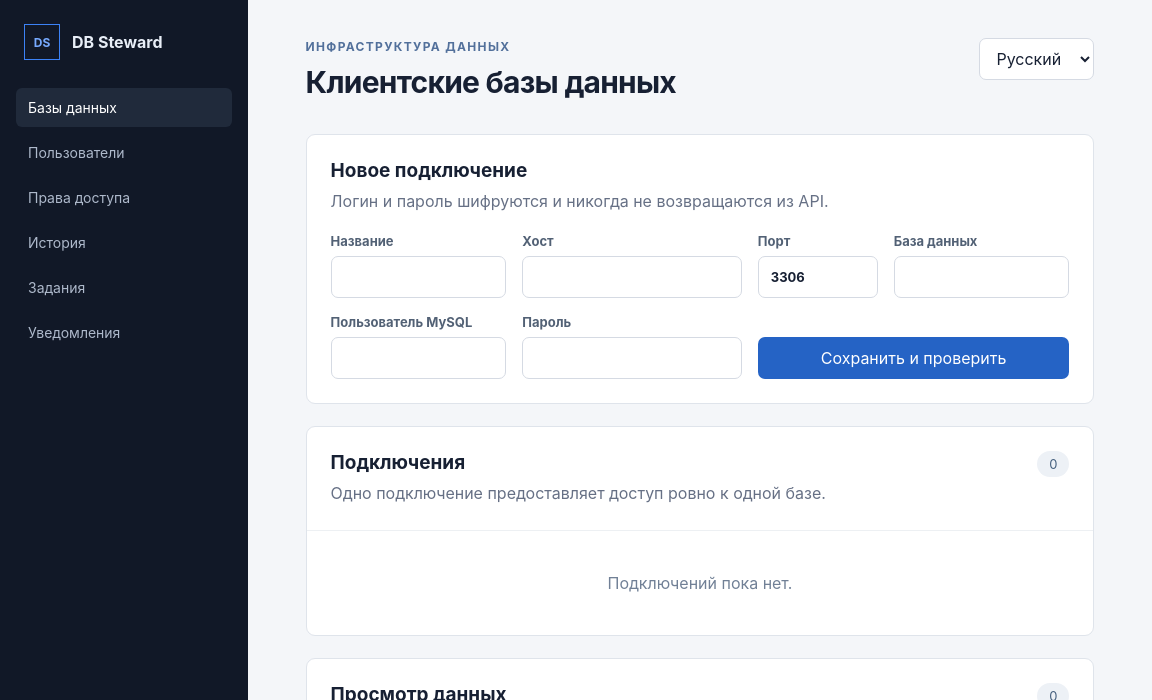
Test case: App › renders connection and user management for an administrator
Click the button "Пользователи": (124, 152) [16,133,232,172]
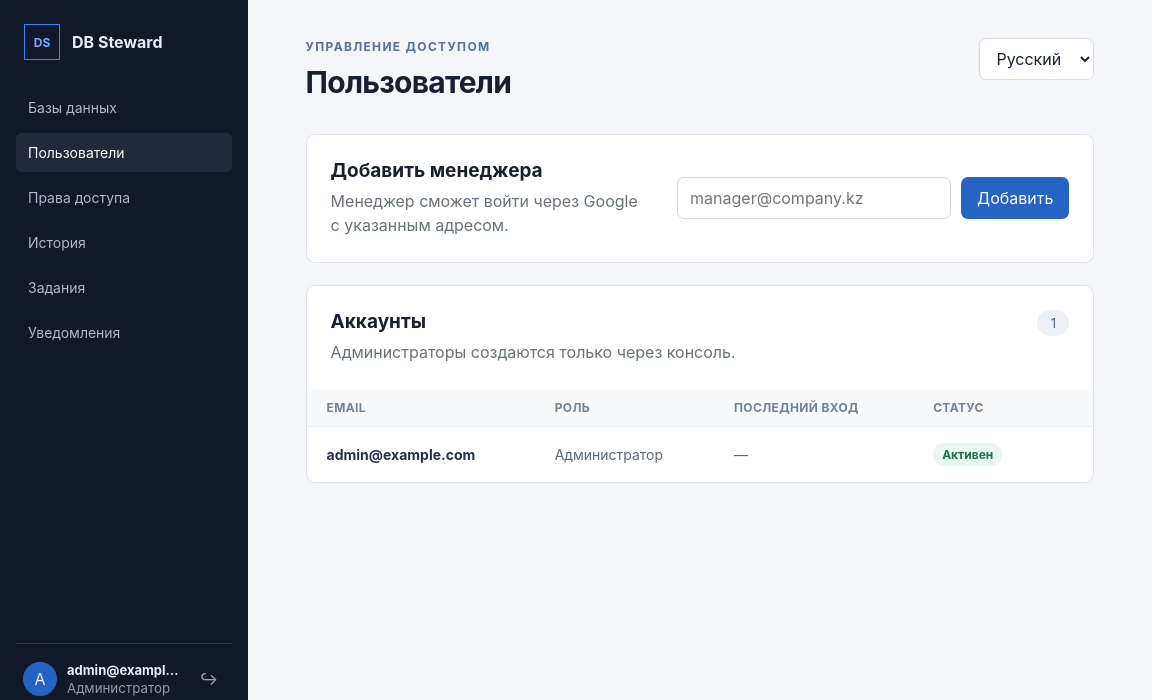
Check: the text "admin@example.com" is shown, box [67,662,183,678]
Check: the text "Добавить менеджера" is shown, box [331,159,543,182]
Click the button "Права доступа": (124, 198) [16,178,232,217]
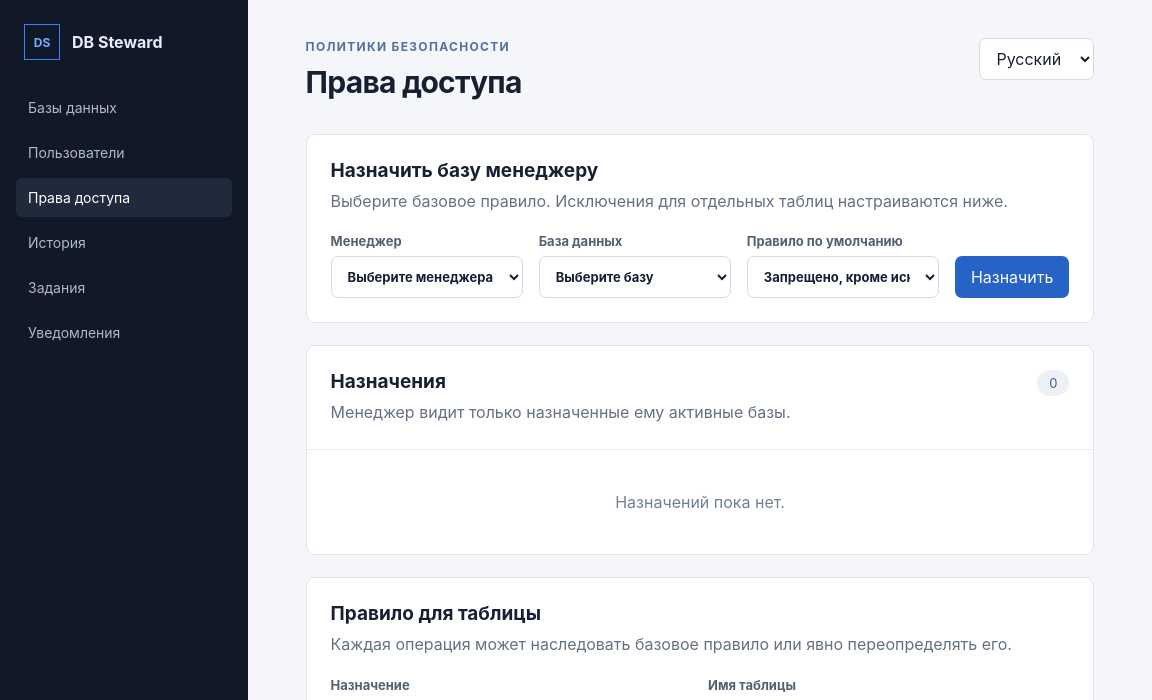
Check: the text "Назначить базу менеджеру" is shown, box [331,159,598,182]
Check: the text "Правило для таблицы" is shown, box [331,602,541,625]
Click the button "История": (124, 242) [16,223,232,262]
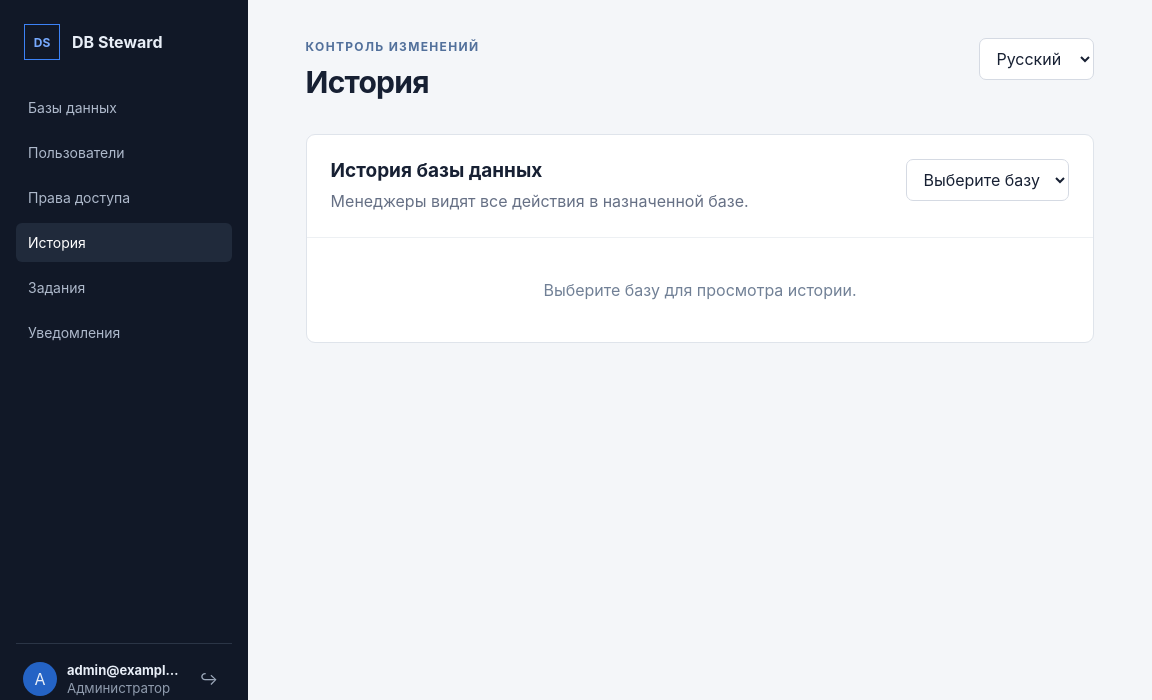
Check: the text "История базы данных" is shown, box [331,159,542,182]
